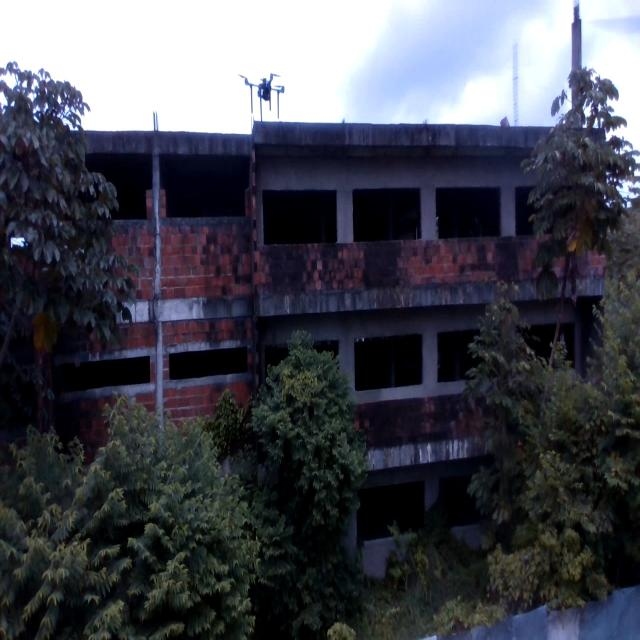-uav-: (234, 64, 297, 123)
